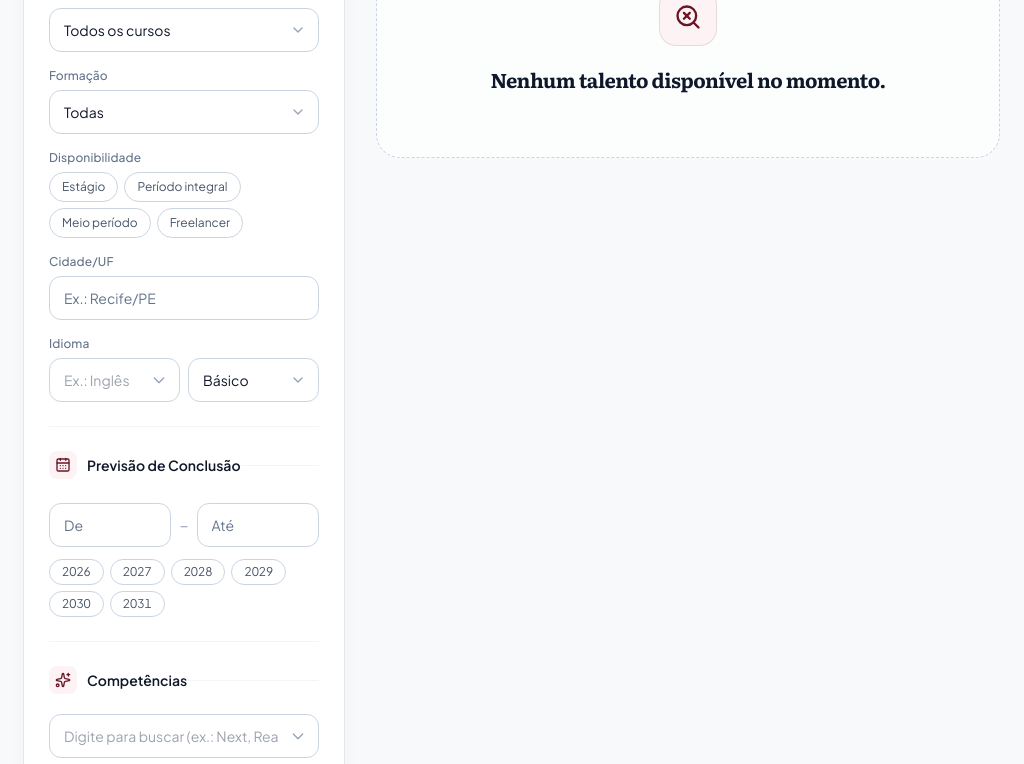
Test case: TalentSearchPage — combobox de idiomas (H6-1) › idioma inexistente mostra 'Nenhum resultado' (filtro sem texto livre)
(page scrolled)
Step 1. Type "klingon" into the dropdown named "Idioma" → (114, 380), box [49,358,180,402]
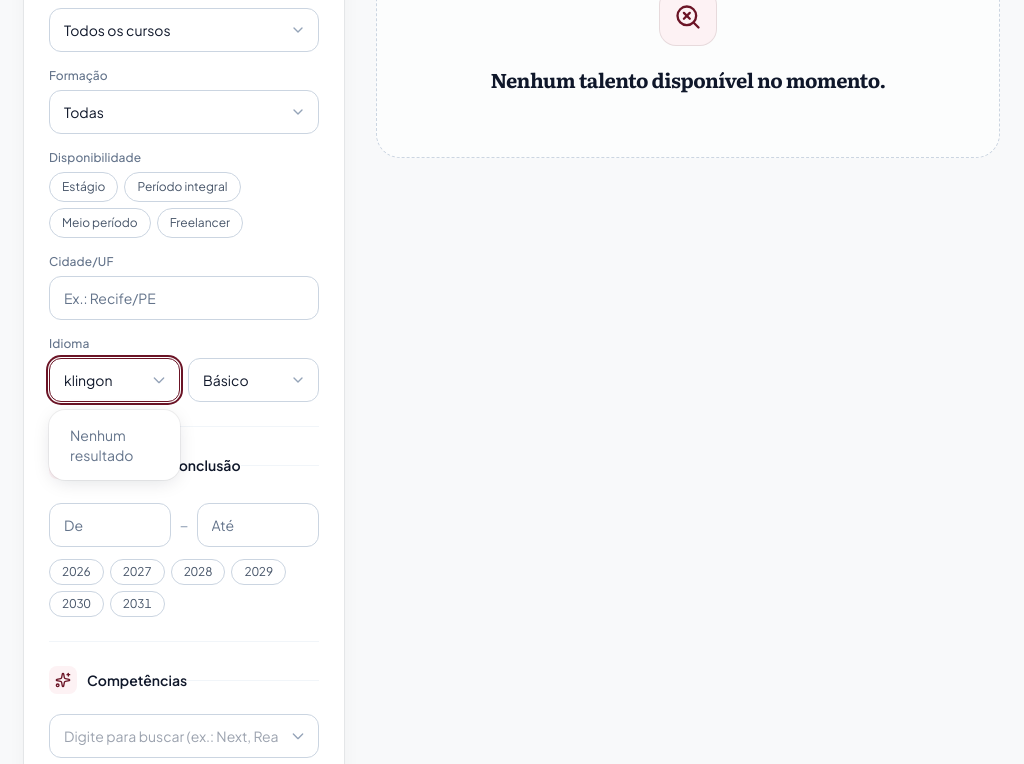
Expected: the list item "Nenhum resultado" is shown, [70,426,134,464]
